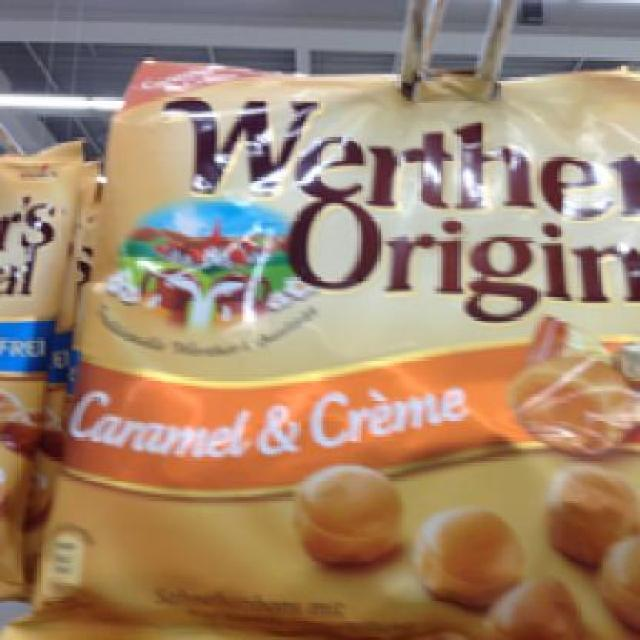Candy: (73, 48, 630, 634)
